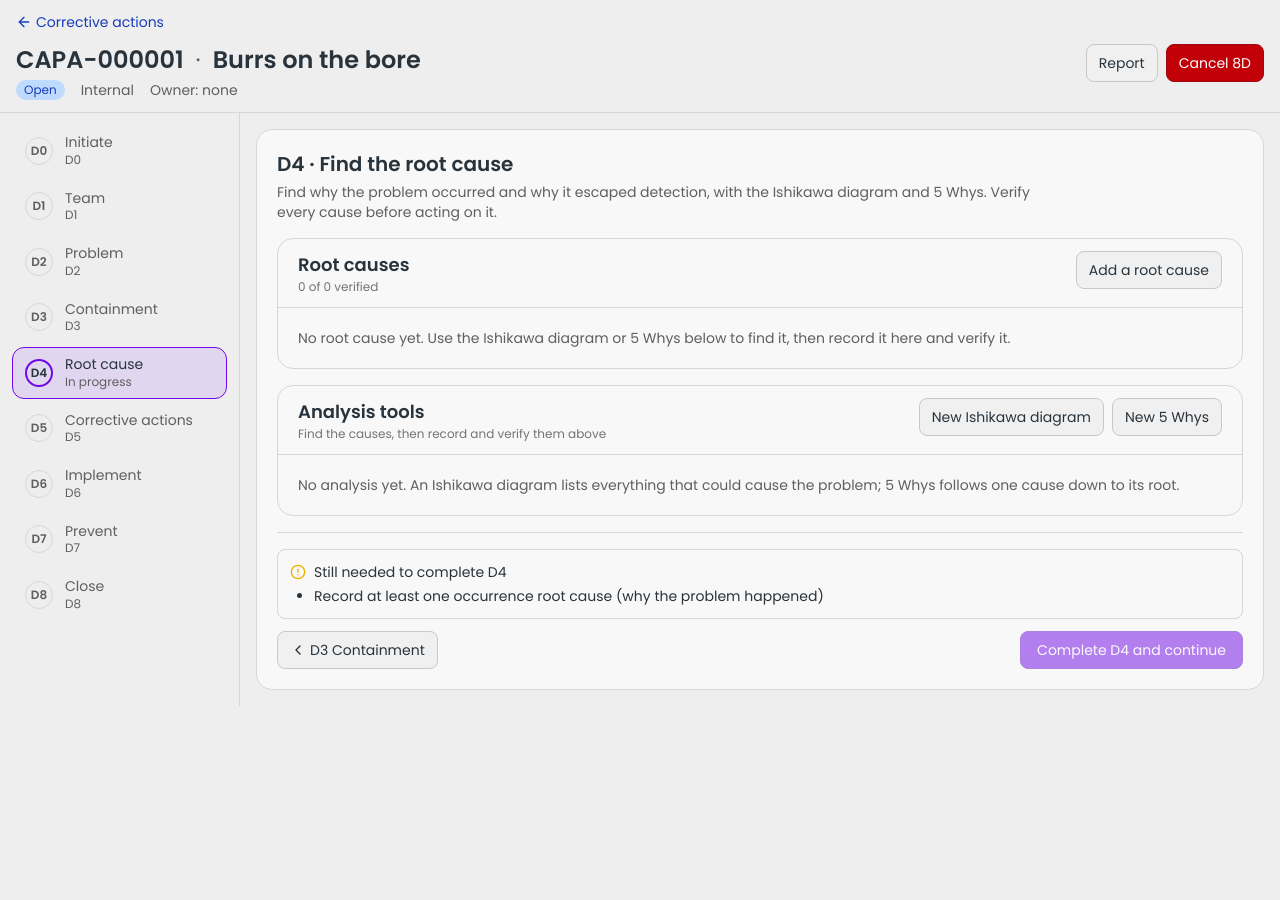
Test: D4: 5 Whys › builds a chain of whys, each asked about the answer before, and saves it with the chosen kind
Later steps or results of the test are not shown.
Click the button "New 5 Whys". click: click(1167, 417)
box: [1112, 398, 1222, 436]
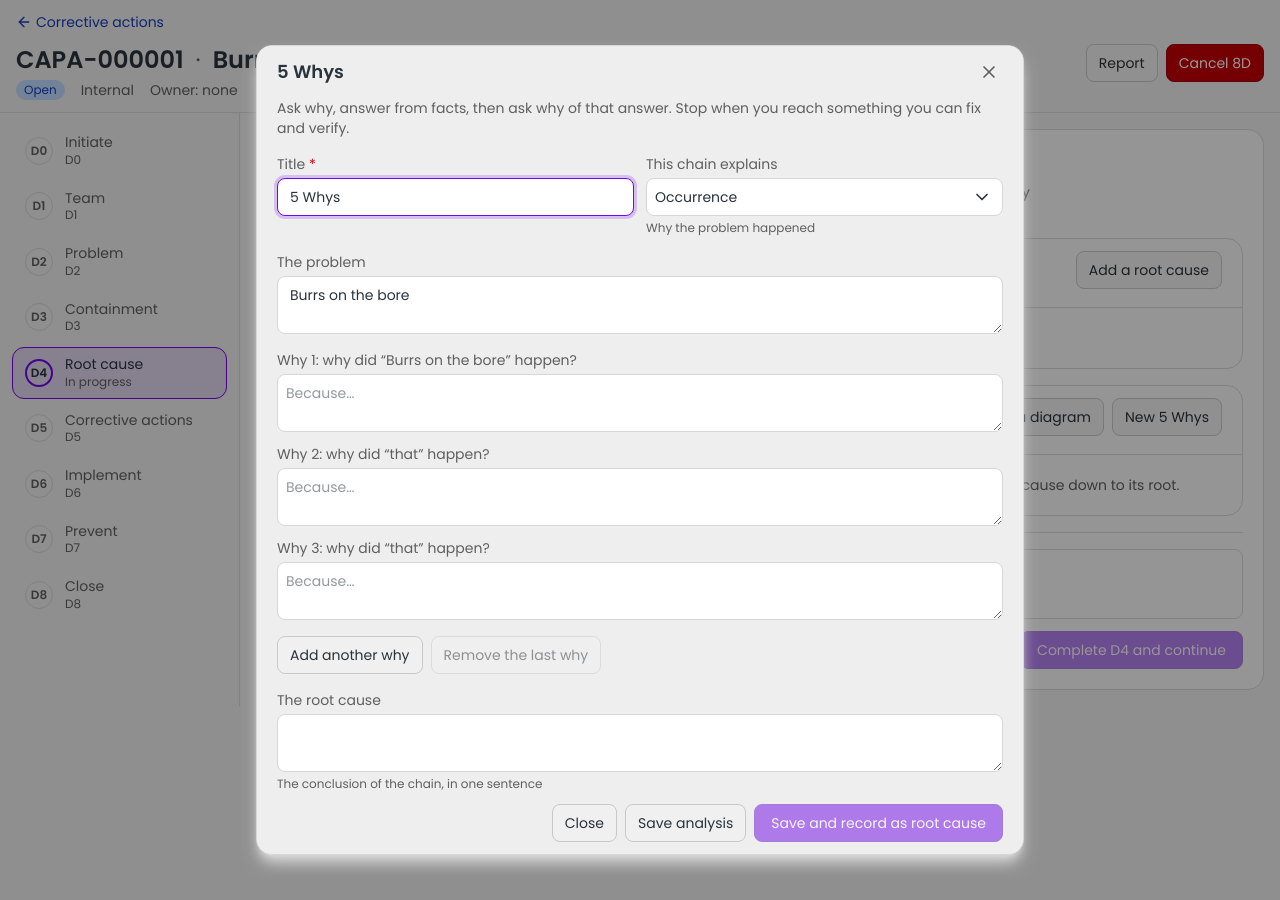
Expected: the text box labelled "The problem" holds "Burrs on the bore", [277, 276, 1003, 334]
Type "The tool was worn" into the text box named "Because (why 1)". click: (640, 403)
box: [277, 374, 1003, 432]
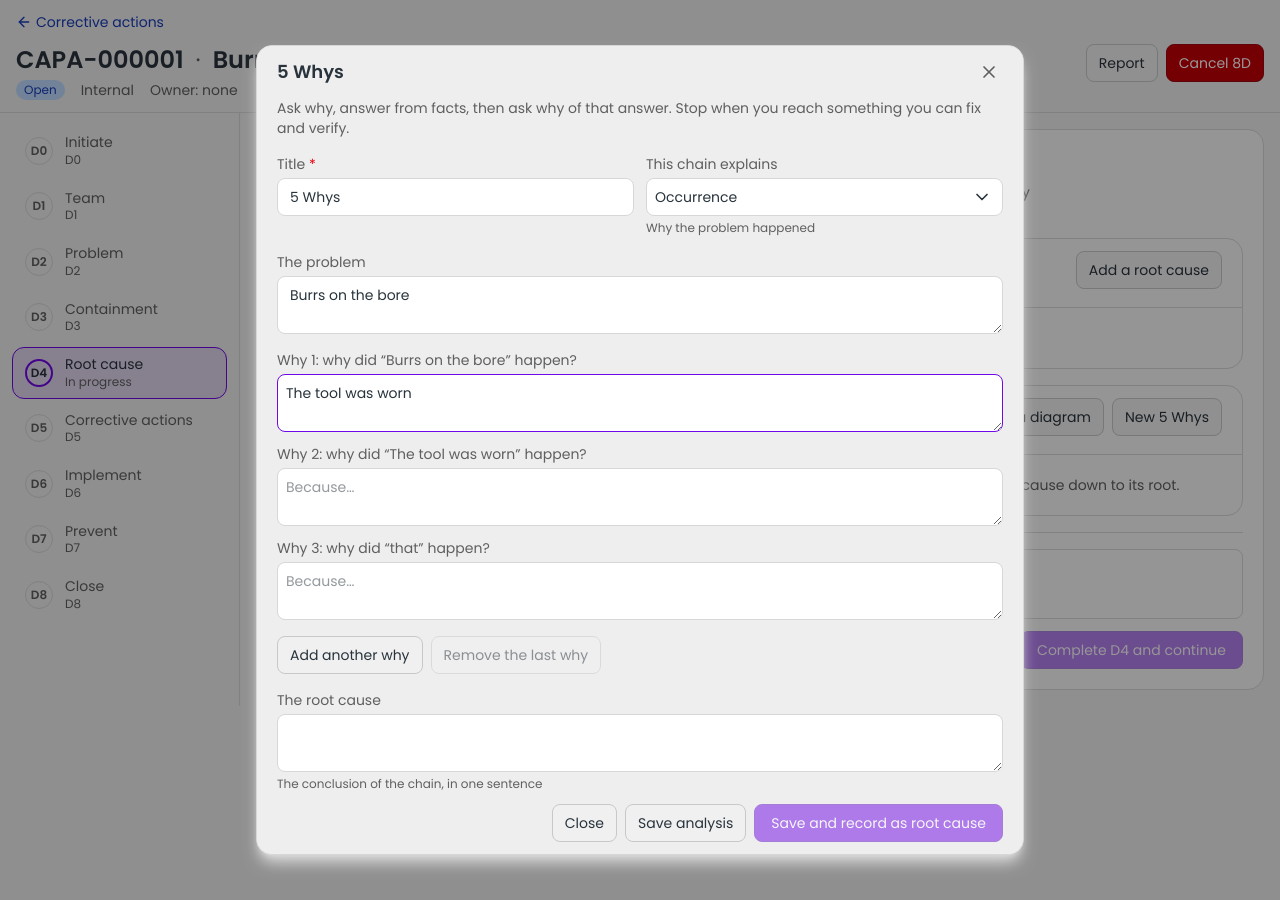
Expected: the text "Why 2: why did “The tool was worn” happen?" is shown, [277, 444, 587, 464]
Type "Nobody tracks tool life" into the text box named "Because (why 2)". click: (640, 497)
box: [277, 468, 1003, 526]
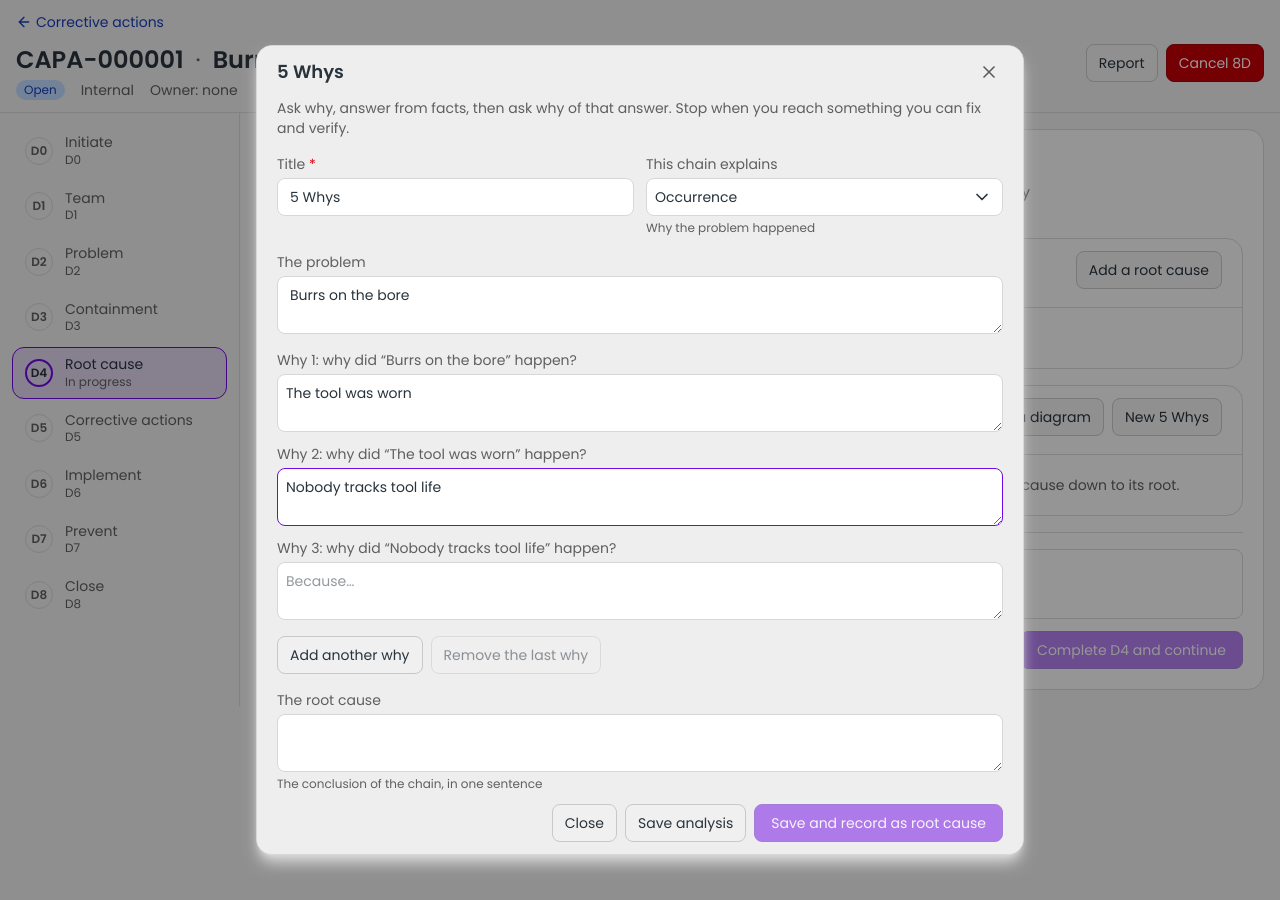
Click the button "Add another why". click: click(350, 655)
box: [277, 636, 422, 674]
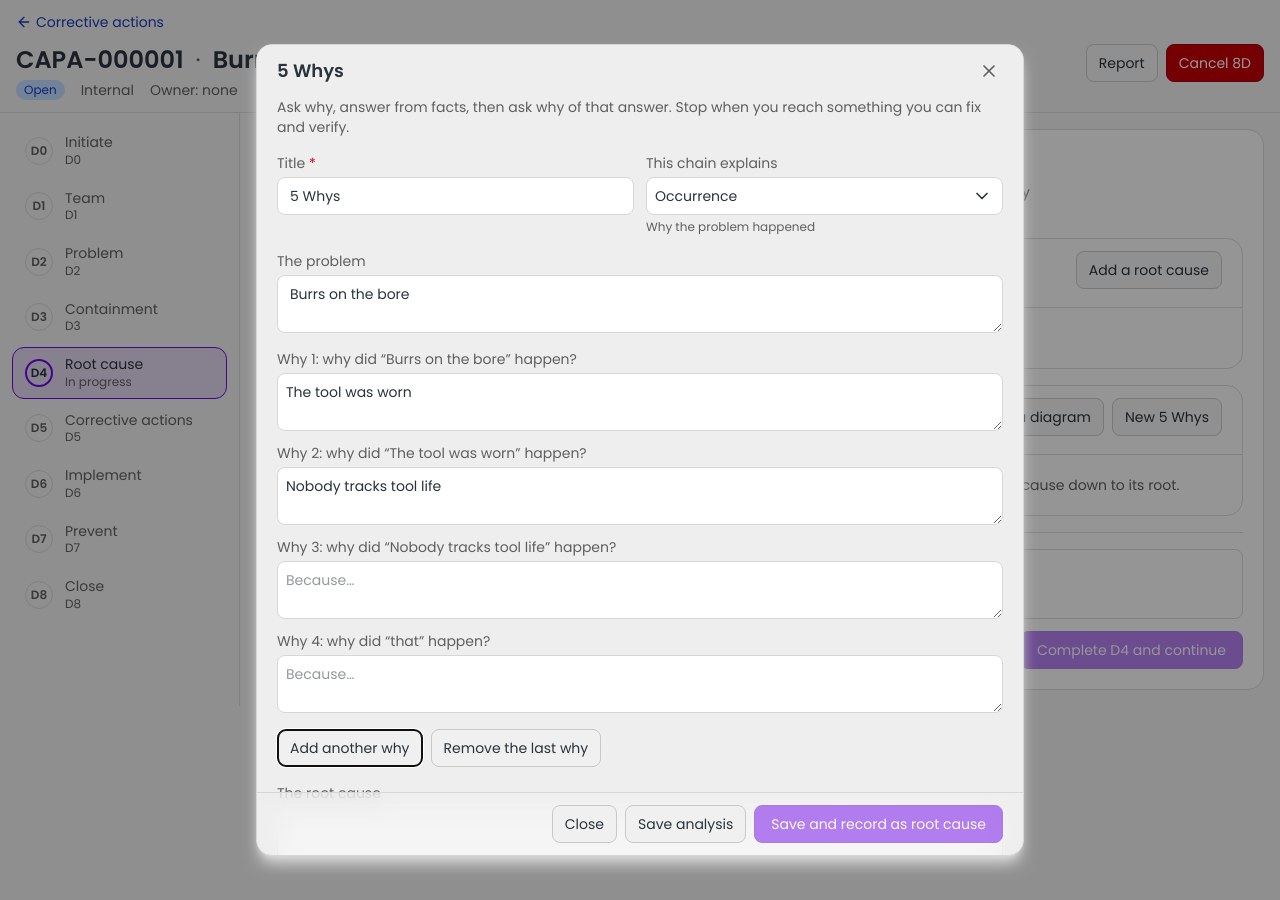
Click the button "Remove the last why". click: click(516, 748)
box: [430, 729, 601, 767]
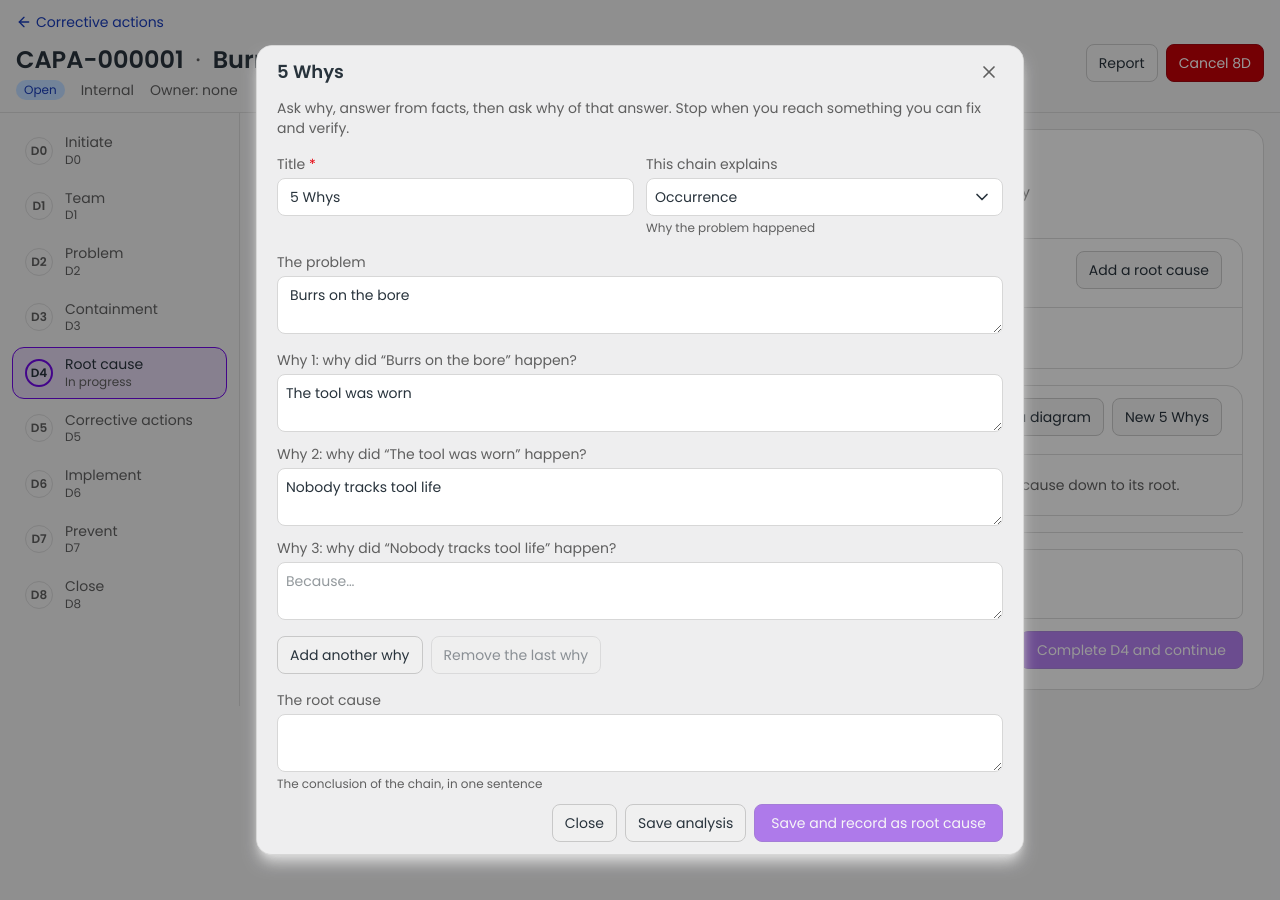
Expected: the button "Remove the last why" is disabled, [430, 636, 601, 674]
